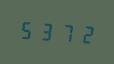five: (18, 17, 36, 42)
seven: (56, 20, 74, 45)
three: (37, 18, 55, 43)
two: (75, 21, 93, 46)
